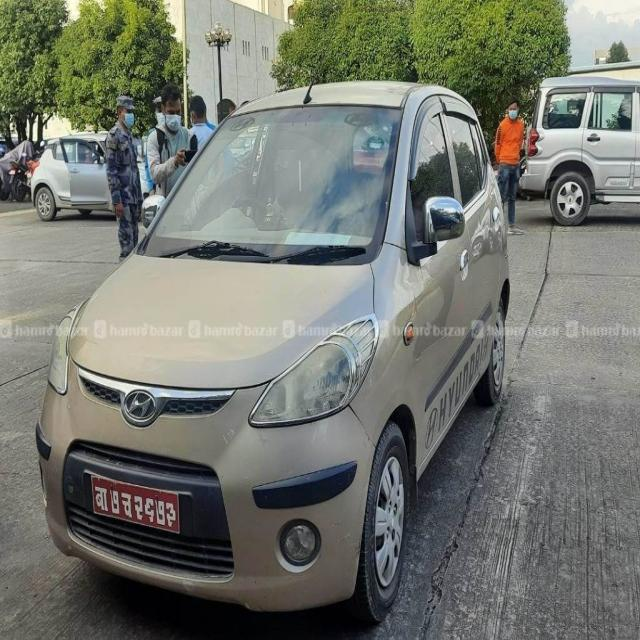License-plate: (89, 473, 182, 540)
